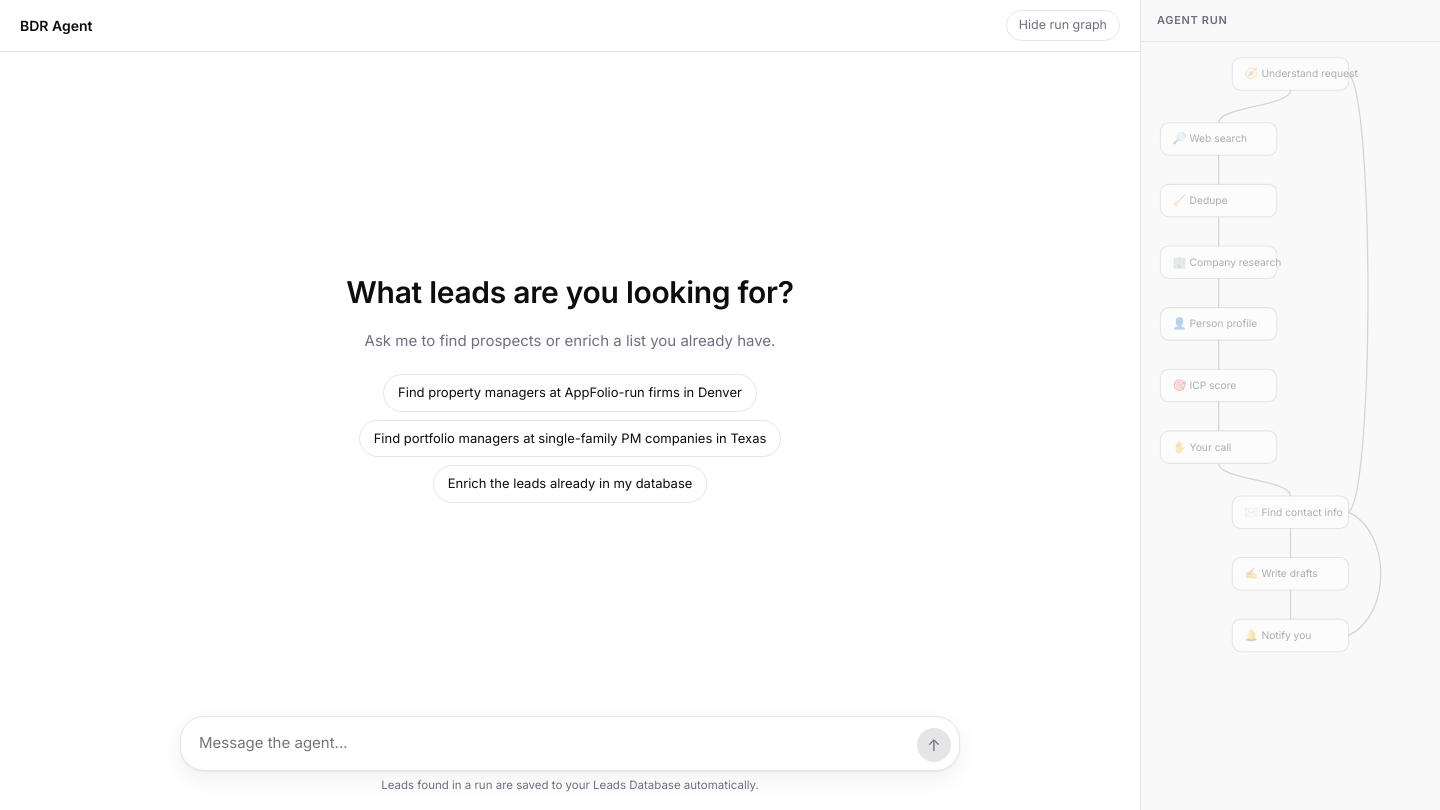
it: Chat page › shows Enrich/Done buttons when the response is paused
The image size is (1440, 810).
Type "find VPs" into the text box with placeholder "Message the agent..." at [554, 744], box [199,725,909,762]
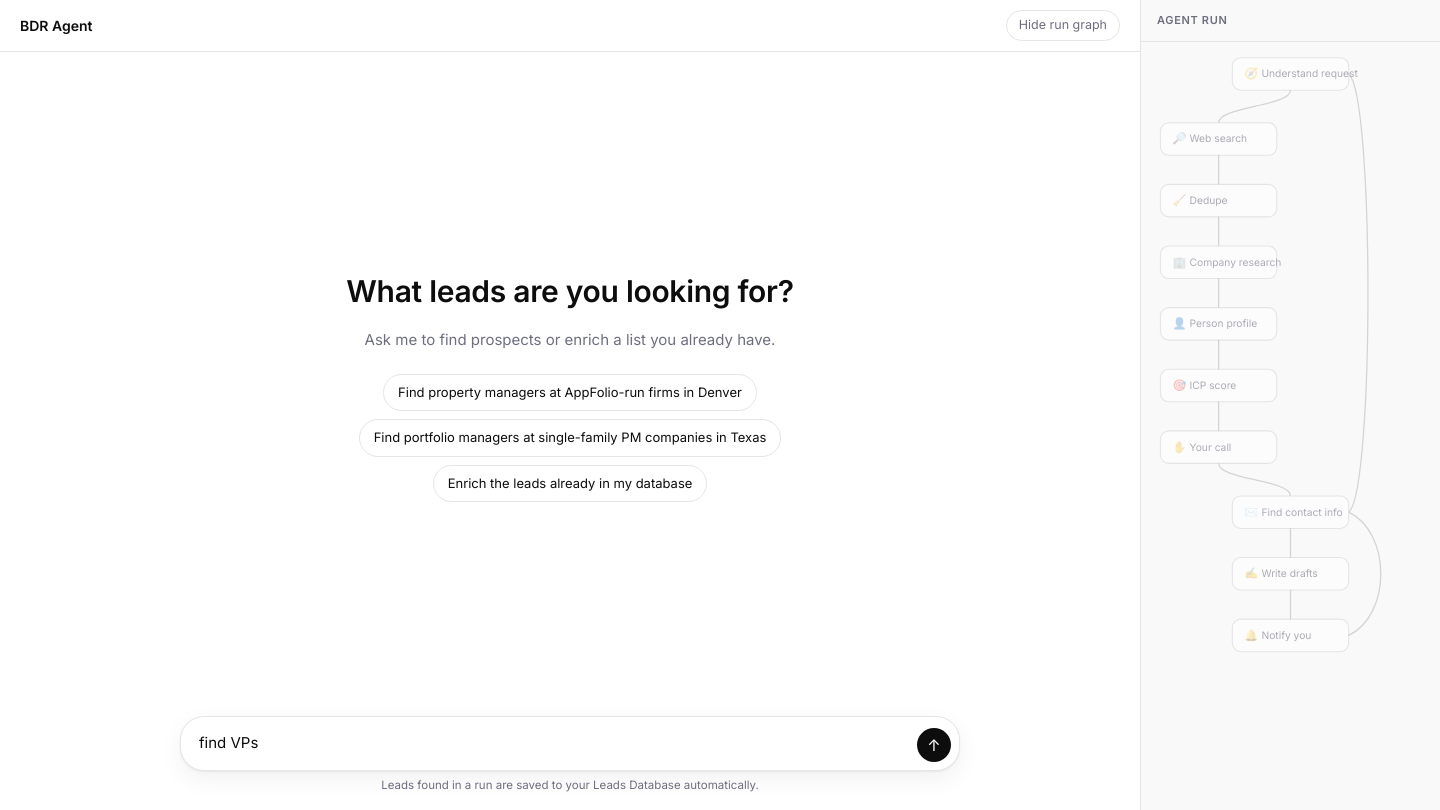
Click the button named "Send" at [934, 745], box [917,728,951,762]
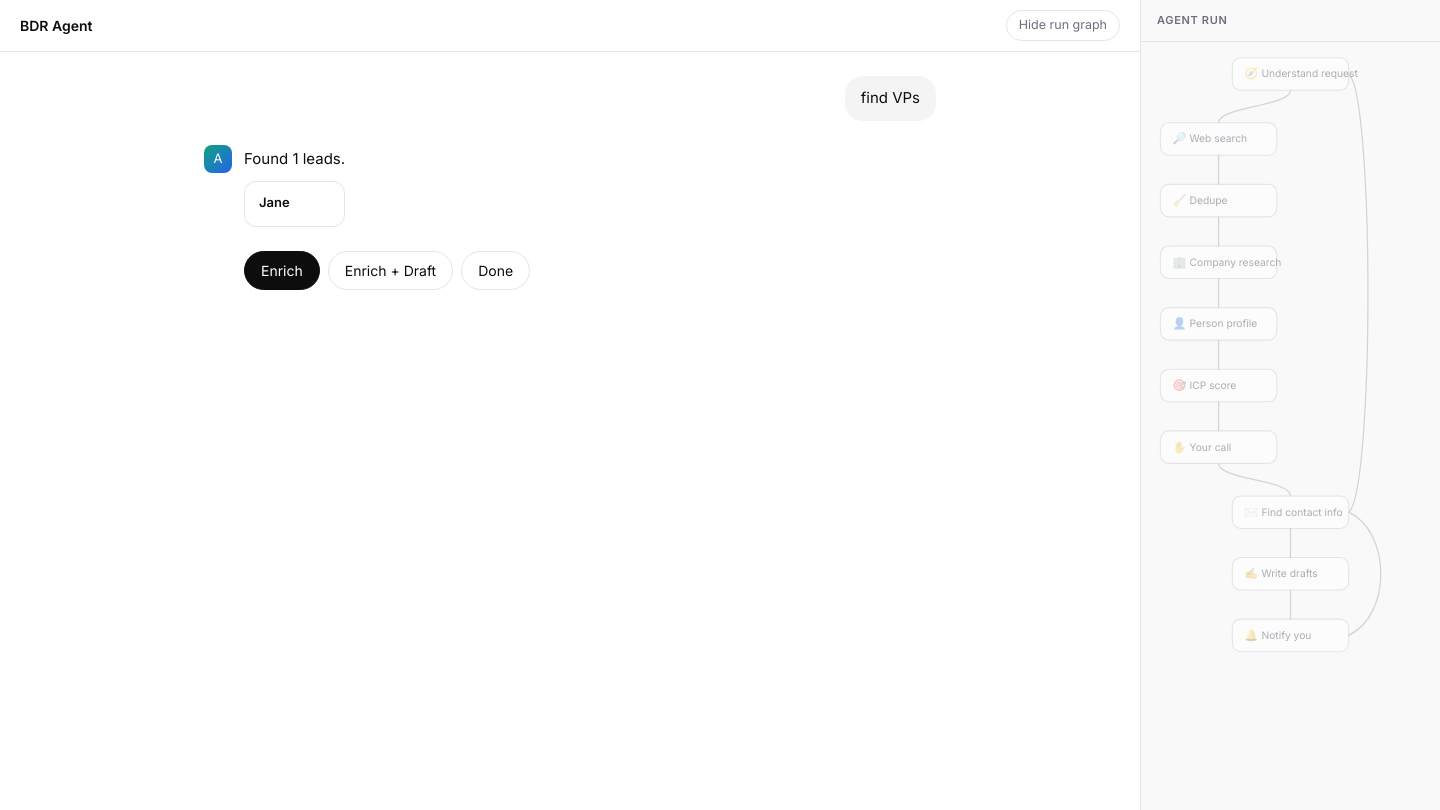
expect the button "Enrich" is shown: met, box [244,251,320,290]
expect the button "Done" is shown: met, box [461,251,530,290]
